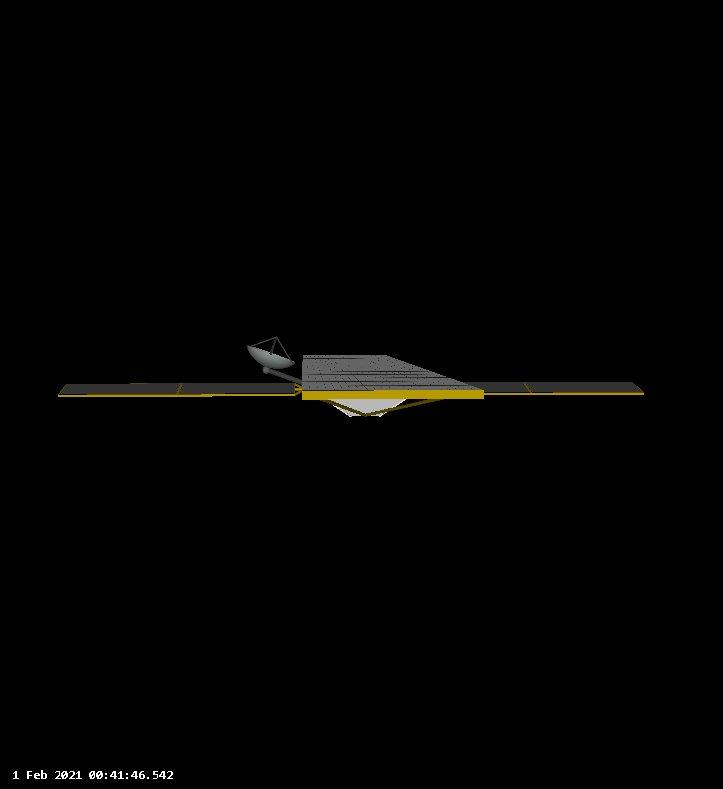antenna: (245, 333, 297, 371)
solar: (54, 380, 299, 399), (461, 377, 649, 398)
